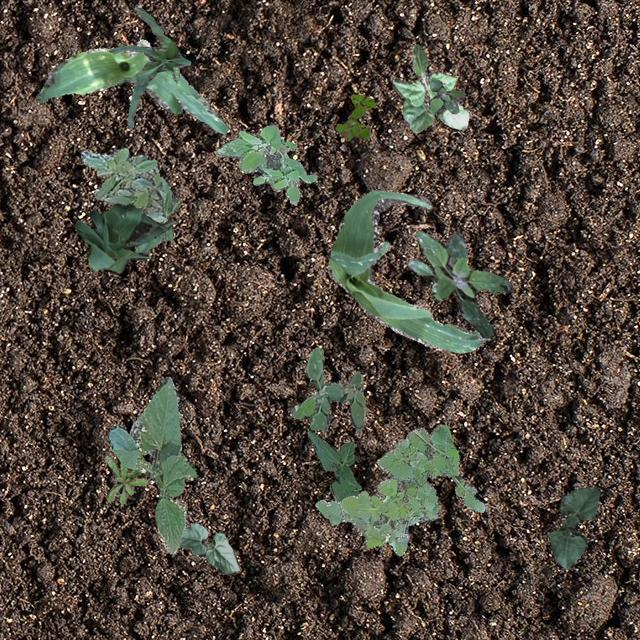crop: (327, 188, 488, 352), (35, 38, 226, 132), (108, 376, 196, 552), (108, 3, 190, 128), (74, 202, 175, 272), (392, 42, 468, 132), (546, 486, 598, 568), (306, 429, 359, 502), (135, 176, 179, 252), (178, 522, 238, 574)
weed: (314, 424, 486, 554), (406, 230, 509, 336), (214, 125, 316, 202), (80, 146, 164, 222), (290, 346, 364, 429), (104, 454, 146, 502), (334, 92, 374, 140), (428, 76, 464, 112)
